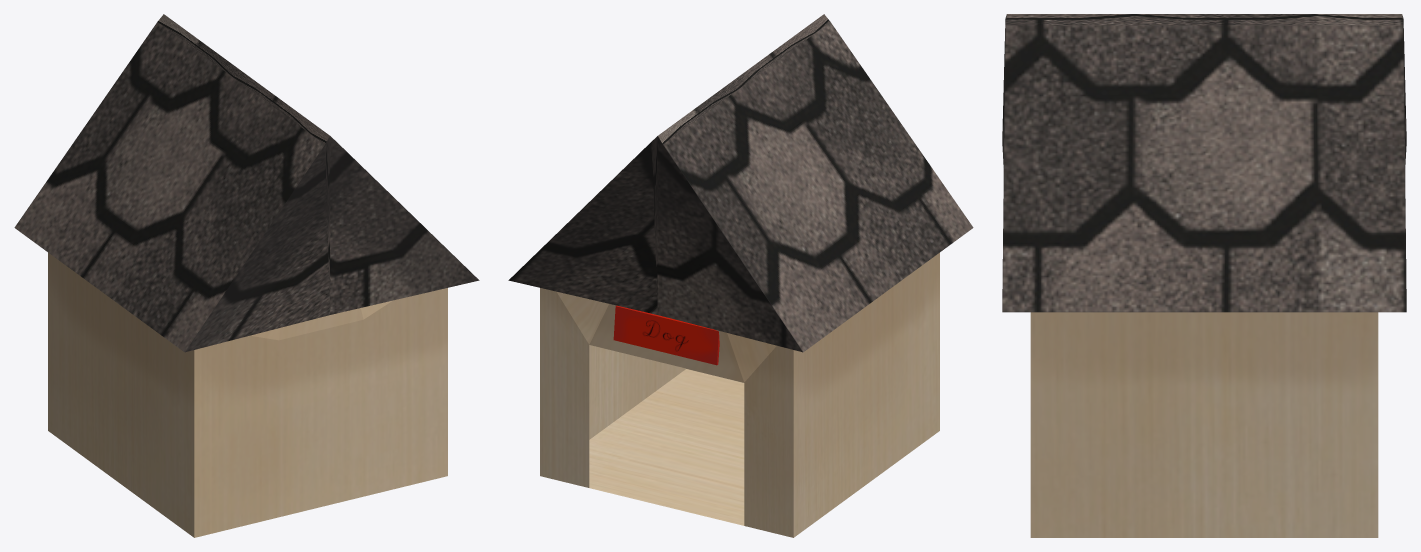
File: HOUSE DOG.fbx
3 renders of one model, left to right at view 1: azimuth 30°, elevation 25°; view 2: azimuth 150°, elevation 25°; view 3: azimuth 270°, elevation 25°, orthographic. The views are drawn at different scales.
Parts seen in each view (by area): view 1: Cube.006; view 2: Cube.006; view 3: Cube.006.
Boxes of the visible parts, left/top/right/bottom form: Cube.006: left=14, top=14, right=479, bottom=537; Cube.006: left=508, top=14, right=973, bottom=537; Cube.006: left=1002, top=14, right=1406, bottom=537.
Size of the model in its own units: 1163 by 1427 by 1163.
